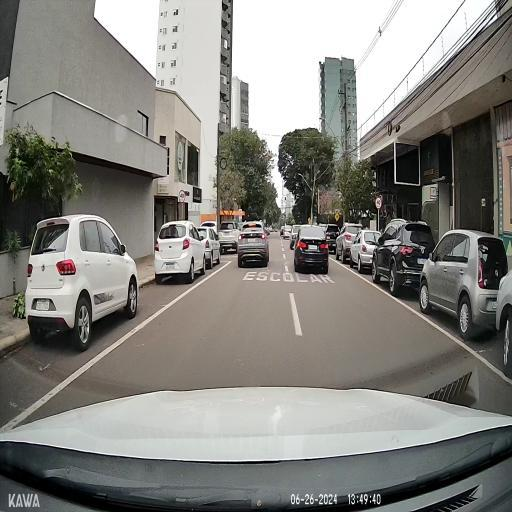R-19: (178, 190, 186, 203), (375, 196, 382, 209)
